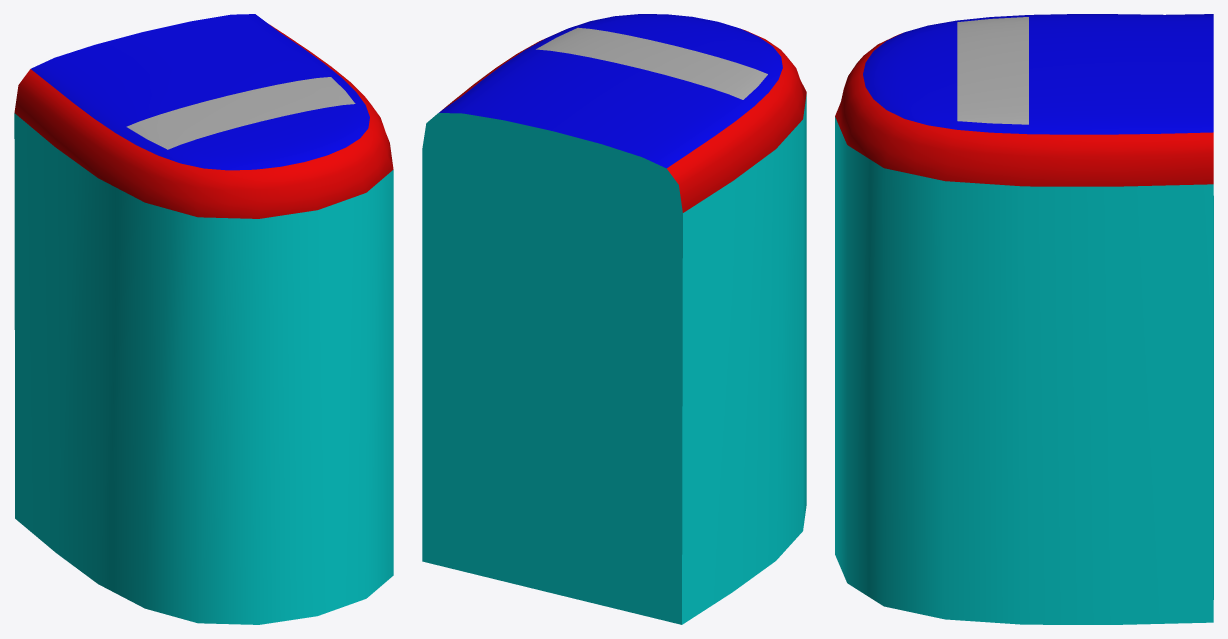
3 renders of one model, left to right at view 1: azimuth 30°, elevation 25°; view 2: azimuth 150°, elevation 25°; view 3: azimuth 270°, elevation 25°, orthographic. The views are drawn at different scales.
Parts seen in each view (by area): view 1: shape01; view 2: shape01; view 3: shape01.
Boxes of the visible parts, x1,y1,x2,y2 form: shape01: (14, 14, 393, 624); shape01: (422, 14, 806, 624); shape01: (835, 14, 1213, 624).
Bounding box in the file's own units: 783 × 1281 × 895.
